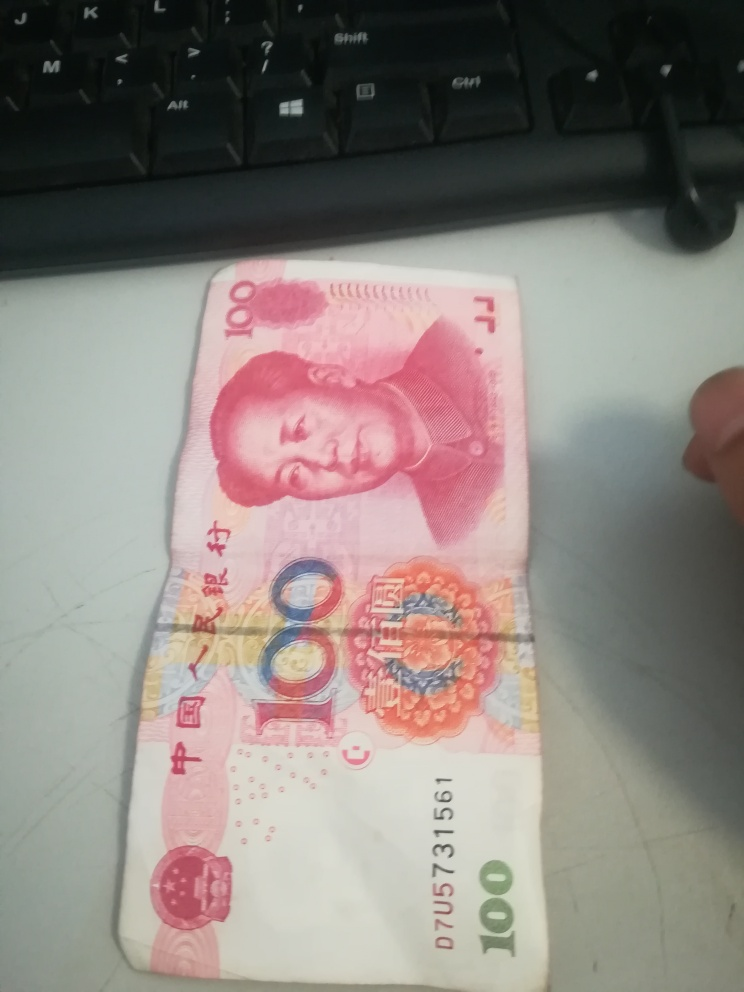rmb: (115, 254, 551, 992)
